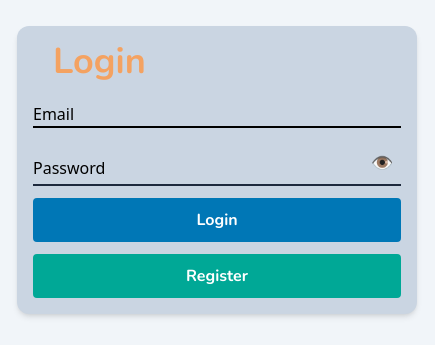
Login Page tests › should display error messages for required fields
Click the button "Login" at [217, 220], box left=33, top=198, right=401, bottom=242
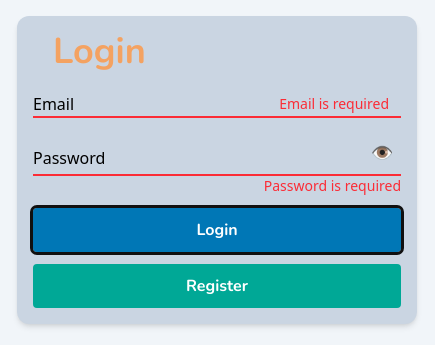
Expected: the text "Email is required" is shown, left=279, top=94, right=389, bottom=114
Expected: the text "Password is required" is shown, left=264, top=176, right=401, bottom=195
